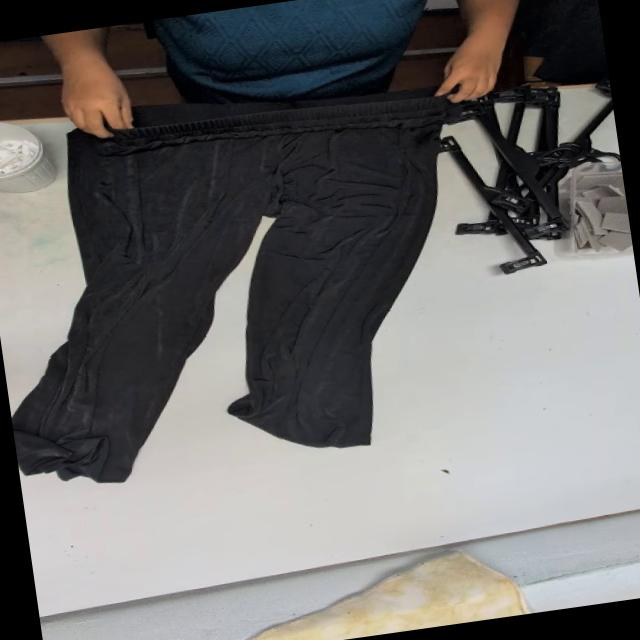new-garment: (12, 92, 457, 482)
